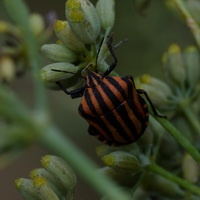insect: (56, 36, 163, 145)
